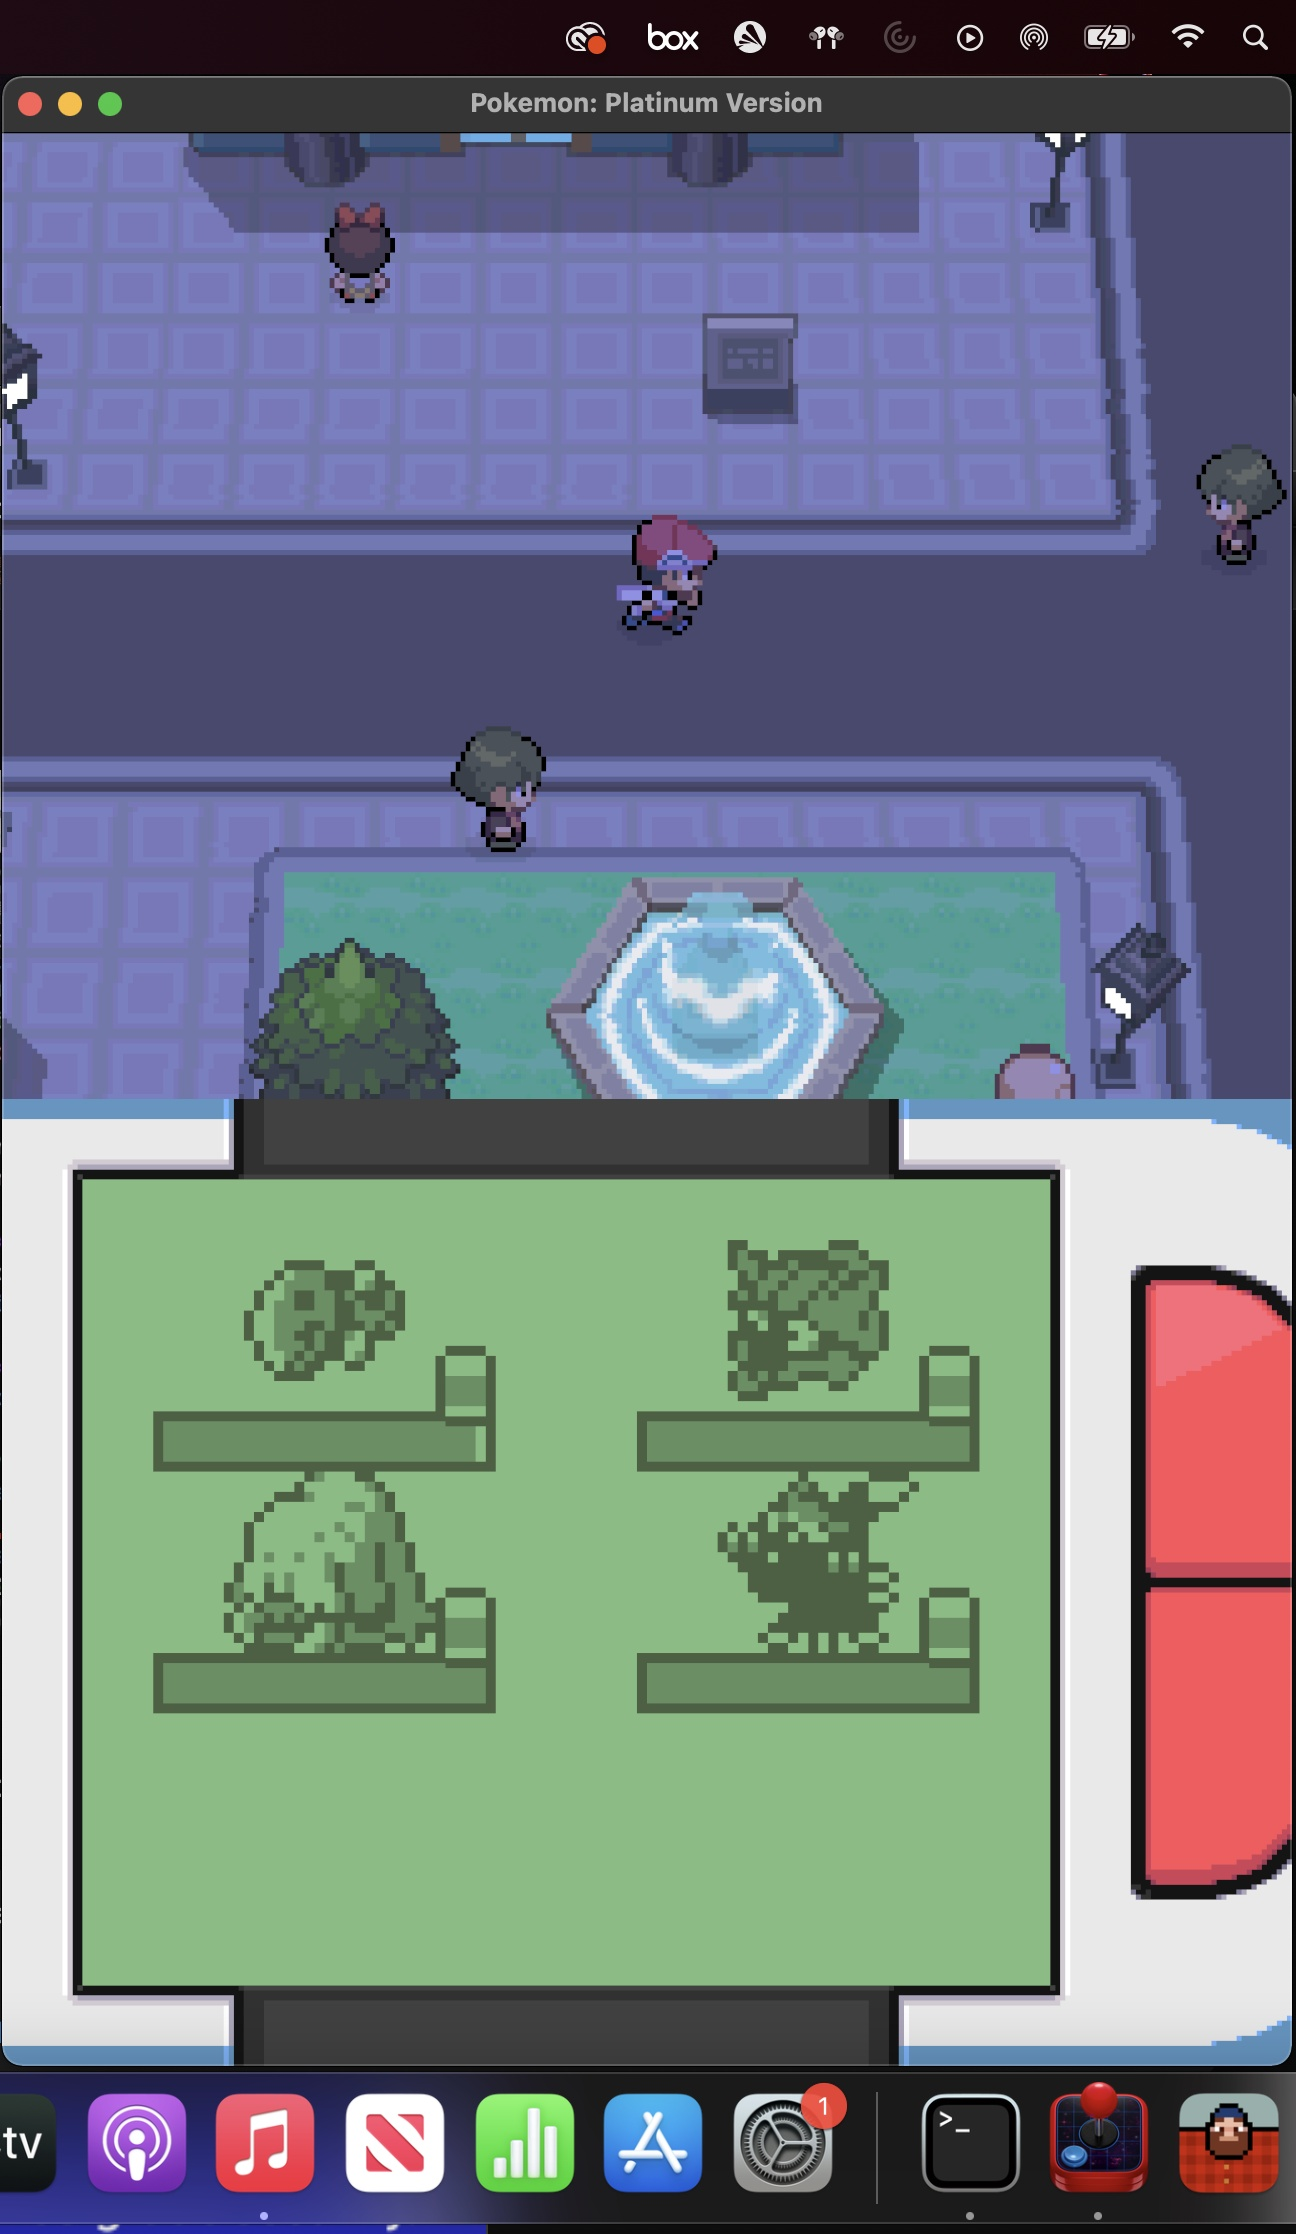player: (606, 505, 712, 643)
